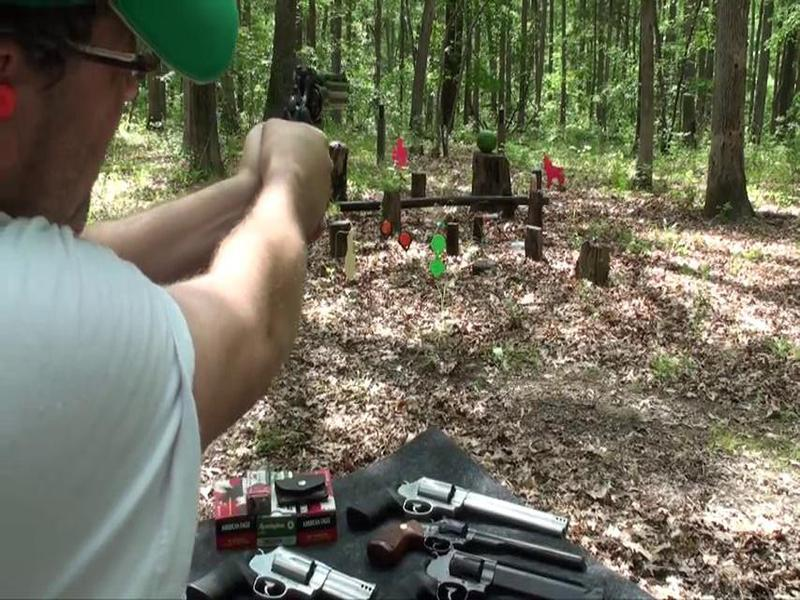Revolver: (271, 51, 385, 146)
